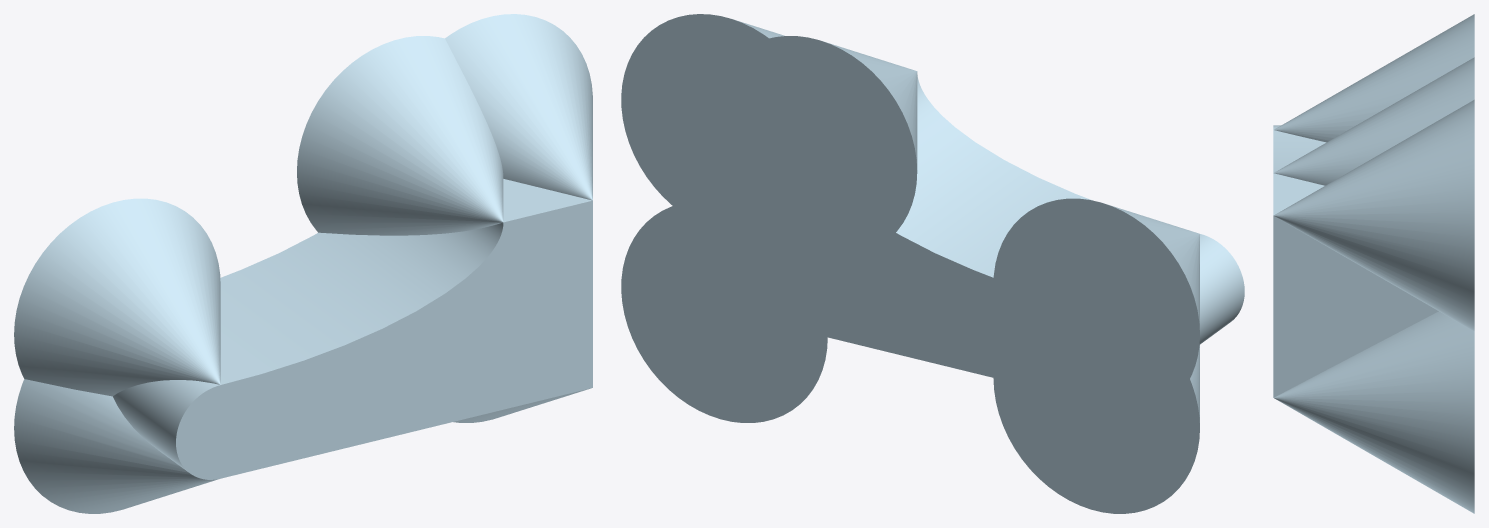
File: Engrave1.gltf
3 renders of one model, left to right at view 1: azimuth 30°, elevation 25°; view 2: azimuth 150°, elevation 25°; view 3: azimuth 270°, elevation 25°, orthographic. The views are drawn at different scales.
Visible parts, largest first — view 1: Part 1; view 2: Part 1; view 3: Part 1.
Boxes of the visible parts, bbox=[...] form: Part 1: bbox=[14, 14, 592, 513]; Part 1: bbox=[621, 14, 1244, 513]; Part 1: bbox=[1273, 14, 1474, 513].
Size of the model in its own units: 0.0822 by 0.0547 by 0.0254.
